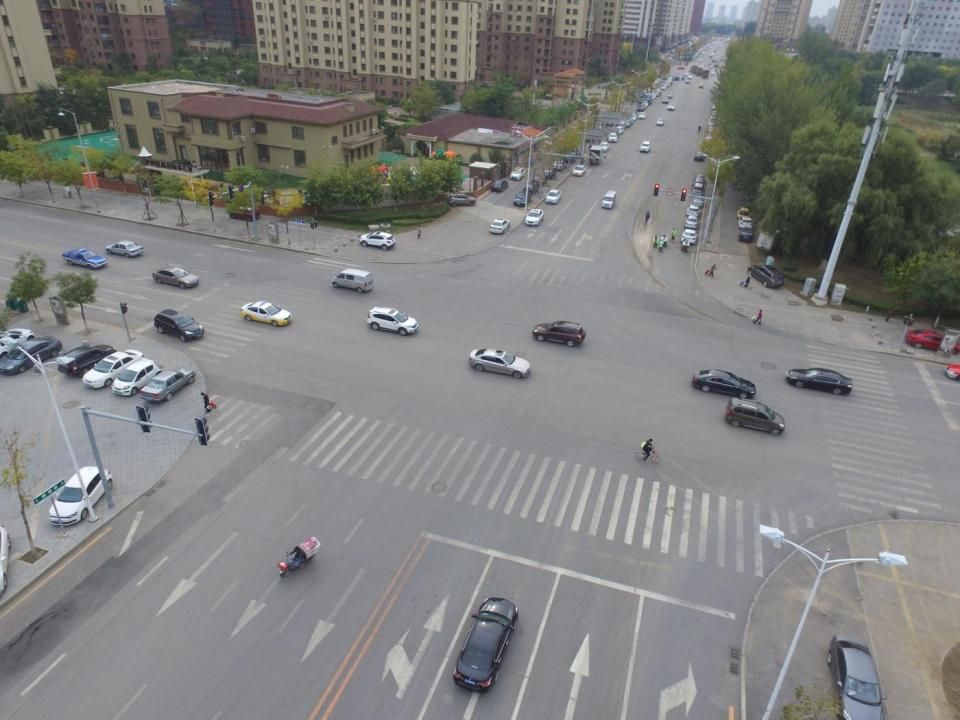car: (454, 598, 517, 690), (826, 635, 887, 720), (46, 466, 112, 527), (82, 349, 144, 390), (0, 335, 61, 376), (725, 398, 786, 437), (138, 366, 195, 403), (786, 366, 854, 395), (467, 348, 532, 378), (694, 370, 756, 401), (60, 343, 114, 377), (110, 359, 160, 395), (366, 306, 419, 336), (154, 310, 204, 341), (532, 320, 586, 347), (906, 327, 960, 352), (241, 302, 292, 327), (0, 327, 34, 362), (152, 267, 199, 288), (62, 247, 106, 269), (747, 263, 785, 288), (106, 240, 146, 259), (359, 231, 395, 250), (228, 205, 259, 224), (445, 193, 476, 207), (489, 218, 511, 235), (525, 208, 544, 227), (513, 191, 531, 207), (546, 189, 561, 205), (681, 229, 697, 244), (738, 216, 753, 232), (522, 182, 539, 196), (739, 228, 754, 243), (491, 179, 508, 192), (531, 174, 546, 187), (509, 168, 525, 180), (687, 204, 700, 218), (738, 207, 750, 222), (553, 159, 566, 172), (685, 216, 698, 228), (572, 165, 586, 176), (542, 168, 554, 180), (640, 140, 651, 153), (563, 153, 575, 164), (567, 148, 580, 158), (695, 152, 705, 163), (599, 142, 609, 153), (607, 133, 618, 142), (695, 173, 705, 182), (614, 126, 624, 135), (626, 115, 634, 124), (656, 118, 664, 126), (638, 112, 646, 120), (637, 104, 645, 112), (624, 120, 632, 128), (668, 103, 676, 110), (630, 114, 637, 122), (662, 96, 668, 104), (642, 99, 648, 107), (668, 92, 674, 99), (684, 79, 690, 84), (688, 74, 692, 79), (676, 76, 680, 81), (685, 71, 689, 76), (700, 84, 704, 88), (700, 64, 704, 68), (688, 66, 691, 70)
truck: (756, 222, 786, 252), (588, 146, 602, 165), (644, 92, 652, 103)
van: (330, 269, 374, 295), (601, 192, 616, 209), (692, 178, 704, 191), (692, 182, 703, 195)
